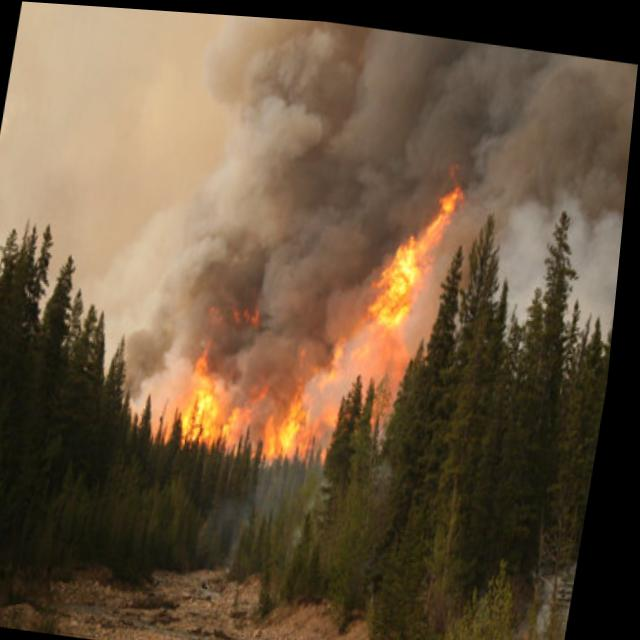Fire: (369, 150, 475, 347), (172, 352, 347, 467)
